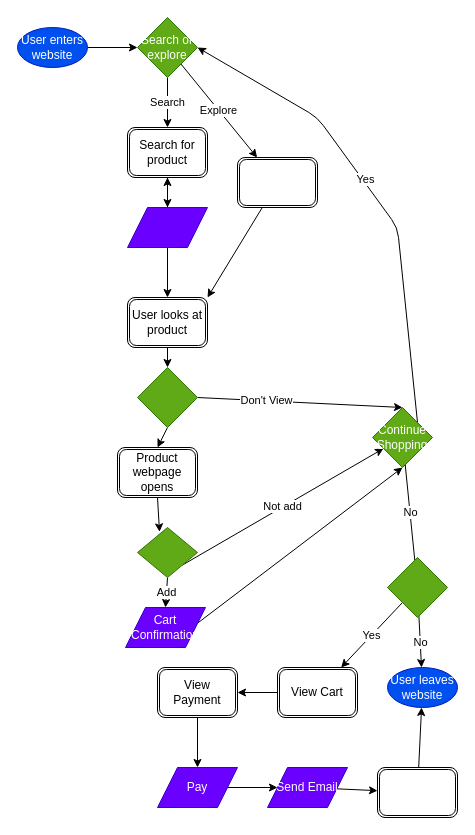
Image size: 475x835. Some labels were removed from this diagram. Here are the shapes that lost their labels. From the top down, the centre of each, then its label:
At [277,182]: "Explore products".
At [167,227]: "User Search Data".
At [167,397]: "View/Don't view product".
At [167,552]: "Add to cart".
At [417,587]: "Checkout".
At [417,792]: "Order confirmation".
